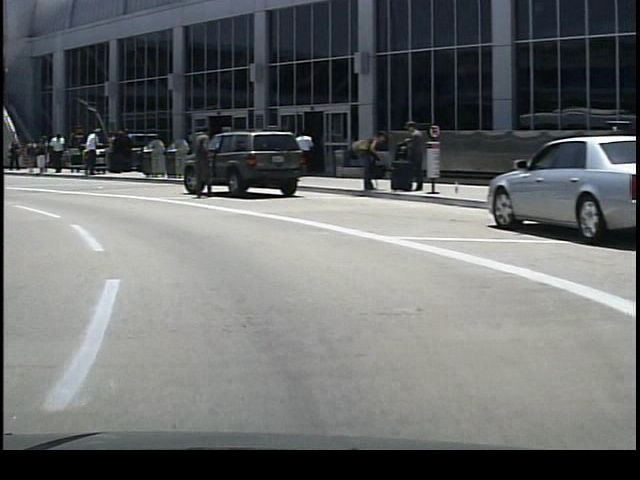person: (380, 116, 425, 194), (183, 115, 212, 204), (351, 124, 383, 195), (285, 118, 316, 186), (73, 125, 102, 178), (45, 129, 65, 178), (28, 133, 47, 180), (4, 138, 22, 175)
